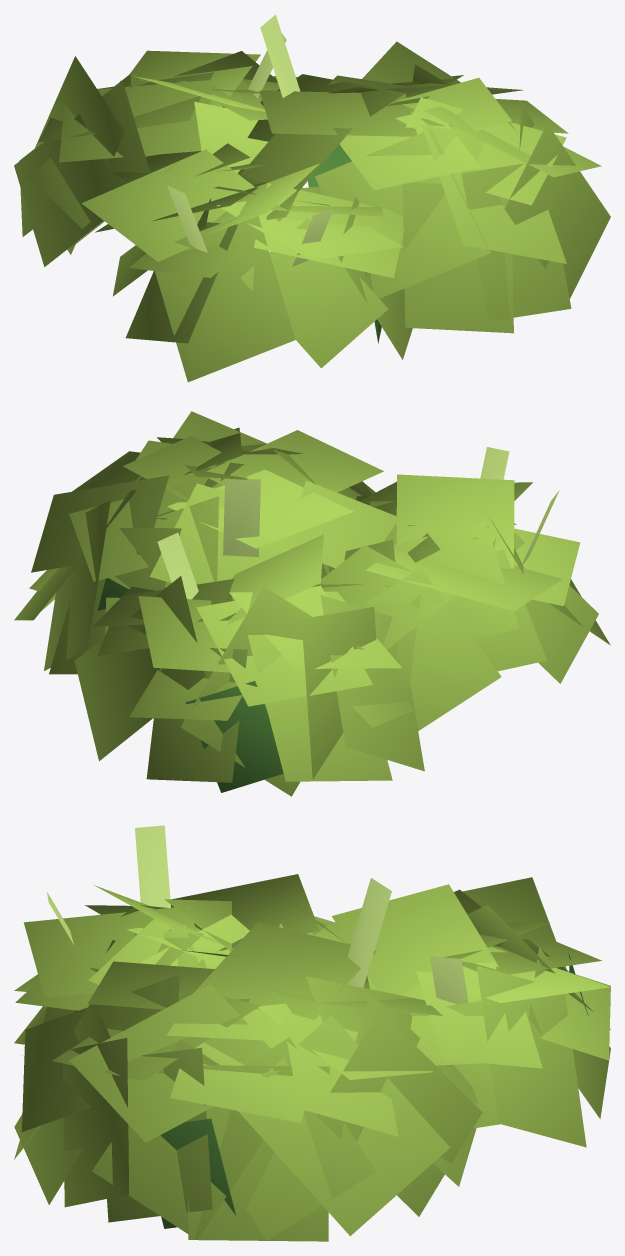
The model's file is plant_groundcover_3_lod1.glb.
3 renders of one model, top to bottom at view 1: azimuth 30°, elevation 25°; view 2: azimuth 150°, elevation 25°; view 3: azimuth 270°, elevation 25°, orthographic. The views are drawn at different scales.
Visible parts, largest first — view 1: plant_groundcover_3; view 2: plant_groundcover_3; view 3: plant_groundcover_3.
Boxes of the visible parts, left/top/right/bottom form: plant_groundcover_3: left=14, top=14, right=610, bottom=382; plant_groundcover_3: left=14, top=411, right=610, bottom=796; plant_groundcover_3: left=14, top=825, right=610, bottom=1241.
Bounding box in the file's own units: 1.49 × 0.6685 × 1.52.
